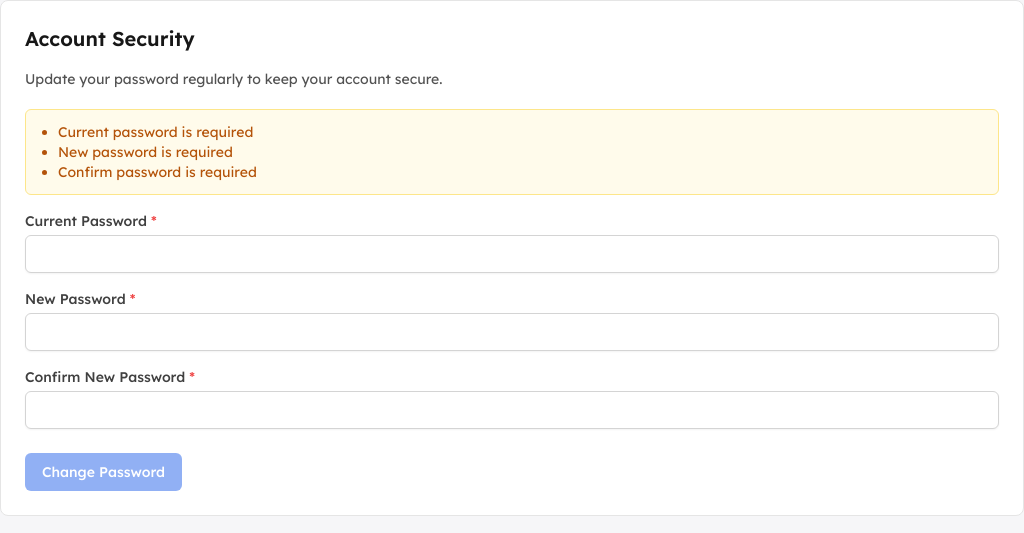
Test case: AccountSettings › shows API error message when change password fails
This screenshot has width=1024, height=533.
Type "WrongCurrent1!" into the password field with test id "current-password-input" at [512, 254], box [25, 235, 999, 273]
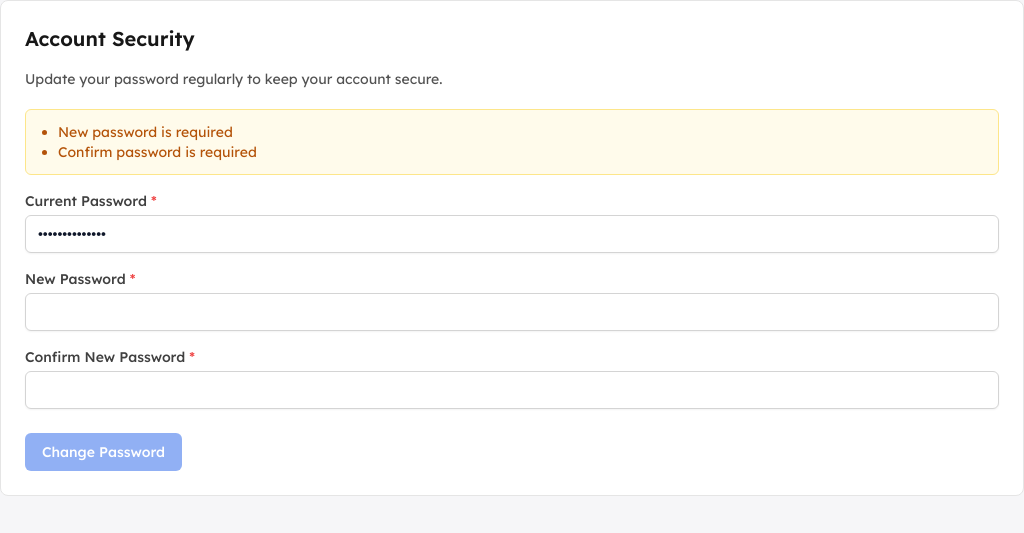
Type "UpdatedPass1!" into the password field with test id "new-password-input" at [512, 312], box [25, 293, 999, 331]
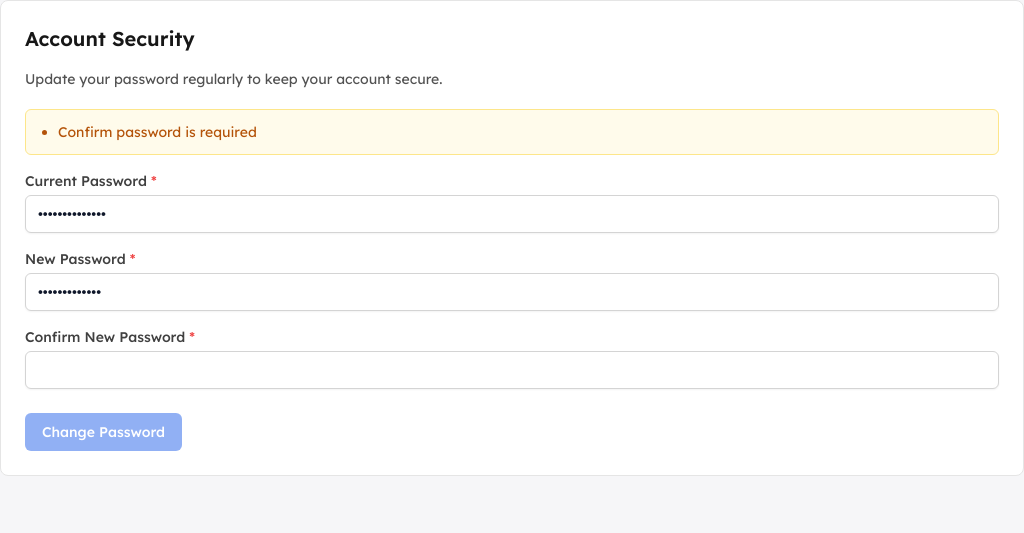
Type "UpdatedPass1!" into the password field with test id "confirm-password-input" at [512, 370], box [25, 351, 999, 389]
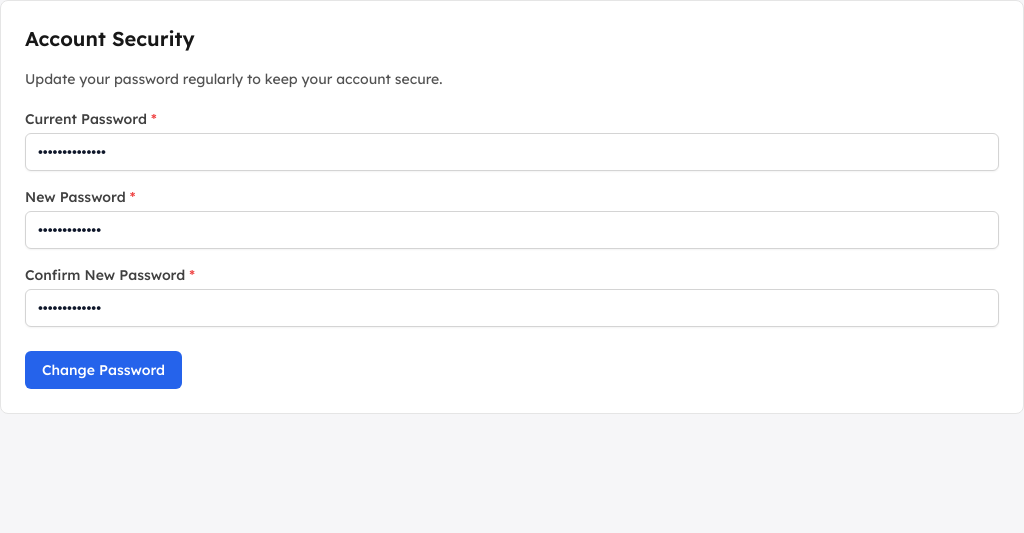
Submit the form, box [25, 109, 999, 389]
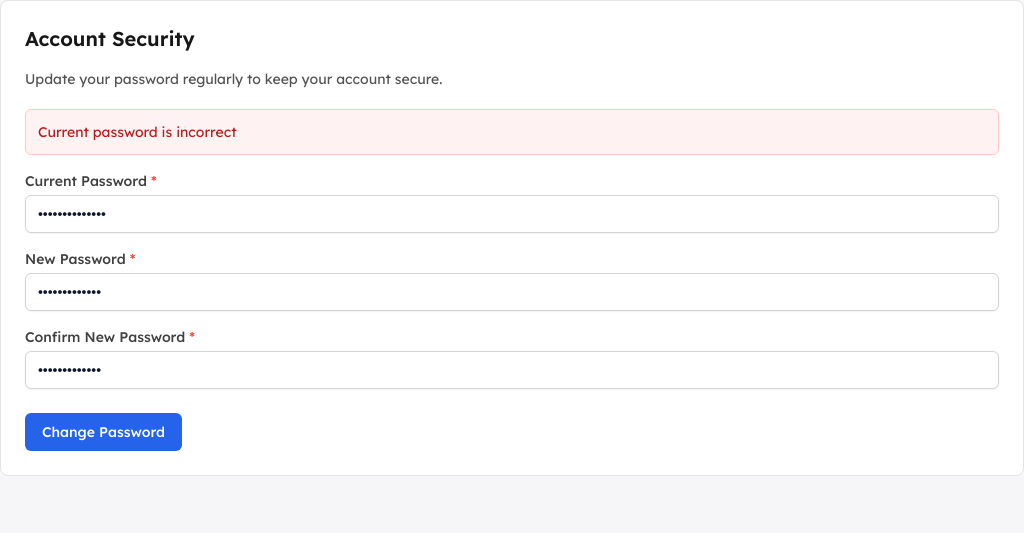
Check: the message with test id "account-settings-error" reads "Current password is incorrect", box [38, 123, 236, 141]
